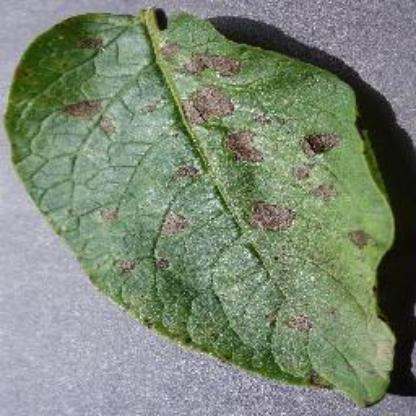Early-Blight: (7, 10, 396, 402)
